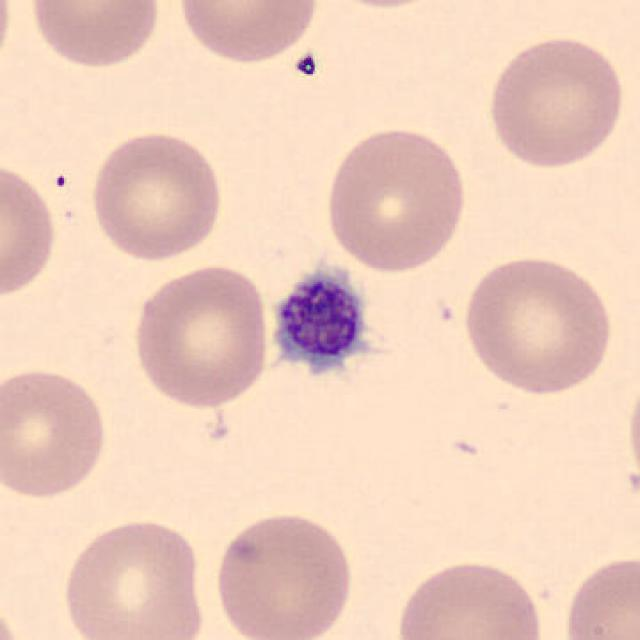Platelets: (263, 265, 382, 386), (292, 49, 320, 83)
RBC: (459, 251, 617, 398), (320, 122, 469, 275), (126, 261, 274, 411), (482, 32, 628, 171), (210, 508, 356, 640), (85, 127, 226, 263), (59, 515, 210, 640), (0, 363, 112, 503), (391, 555, 548, 640), (23, 0, 165, 71), (172, 0, 322, 67), (0, 155, 60, 303), (558, 550, 638, 640), (624, 361, 640, 513), (307, 0, 458, 12), (0, 0, 16, 81), (0, 596, 25, 640)
